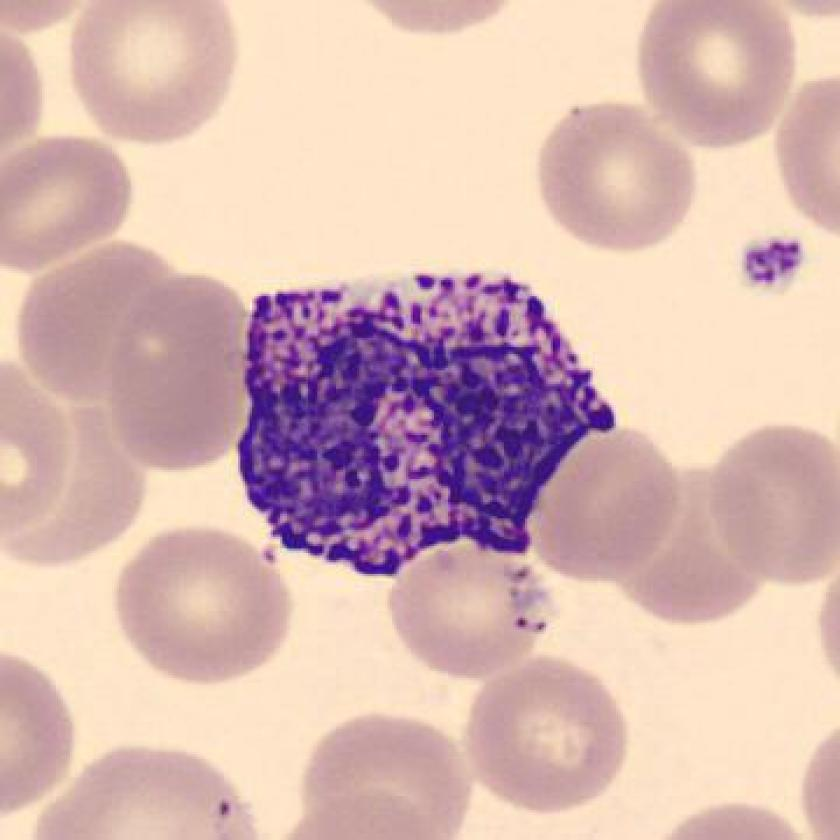basophil: (237, 270, 619, 571)
